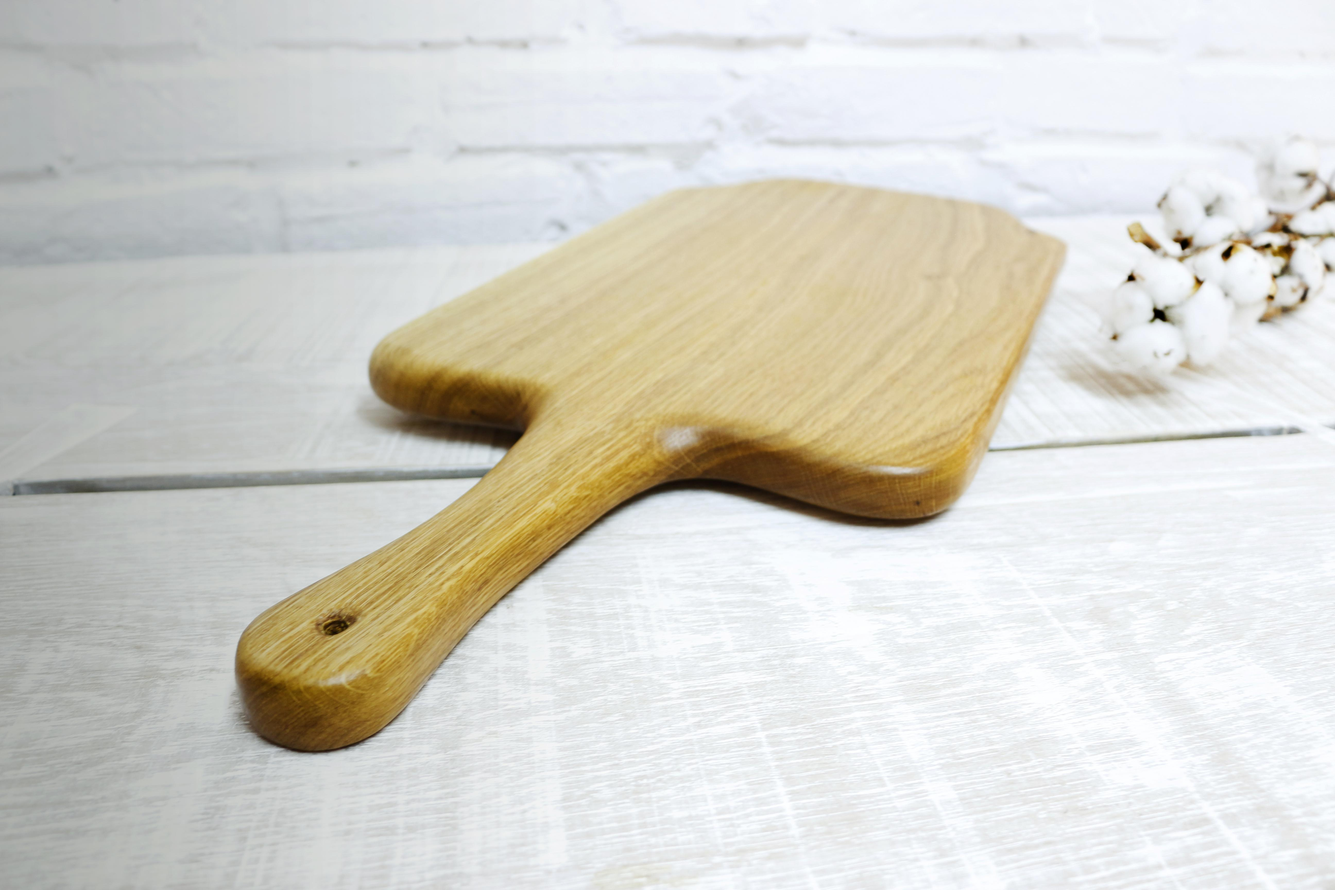gloved_hand: (222, 170, 1072, 758)
